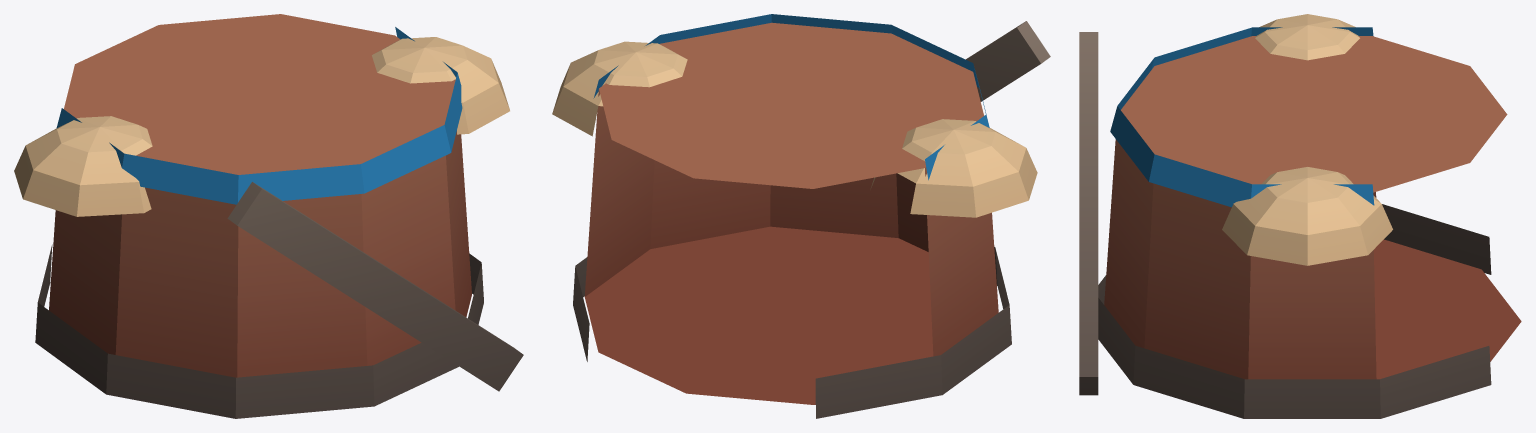
Rendered from engineer_hunter_chest_t2.glb.
3 views of the same model, side by side, from view 1: azimuth 30°, elevation 25°; view 2: azimuth 150°, elevation 25°; view 3: azimuth 270°, elevation 25° (orthographic). The views are drawn at different scales.
Parts seen in each view (by area): view 1: engineer_hunter_chest_t2__chest; view 2: engineer_hunter_chest_t2__chest; view 3: engineer_hunter_chest_t2__chest.
Boxes of the visible parts, x1,y1,x2,y2 form: engineer_hunter_chest_t2__chest: (14, 14, 523, 418); engineer_hunter_chest_t2__chest: (552, 14, 1050, 418); engineer_hunter_chest_t2__chest: (1079, 14, 1521, 418).
Size of the model in its own units: 1.12 by 0.5832 by 0.93.
1 material, 1 textured.
